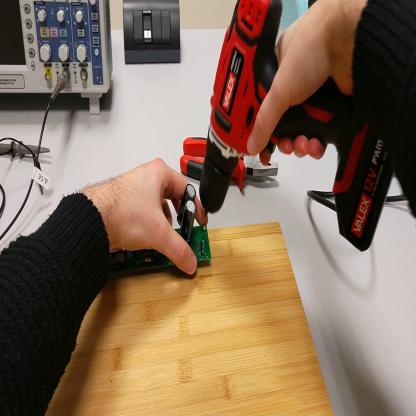electric screwdriver: (201, 1, 391, 253)
hand: (247, 2, 360, 158), (95, 161, 207, 275)
high voltage board: (109, 184, 213, 277)
oscilloscope: (2, 1, 112, 117)
oscilloscope probe tip: (2, 140, 51, 161)
pliers: (180, 136, 280, 195)
working area: (46, 222, 334, 416)
